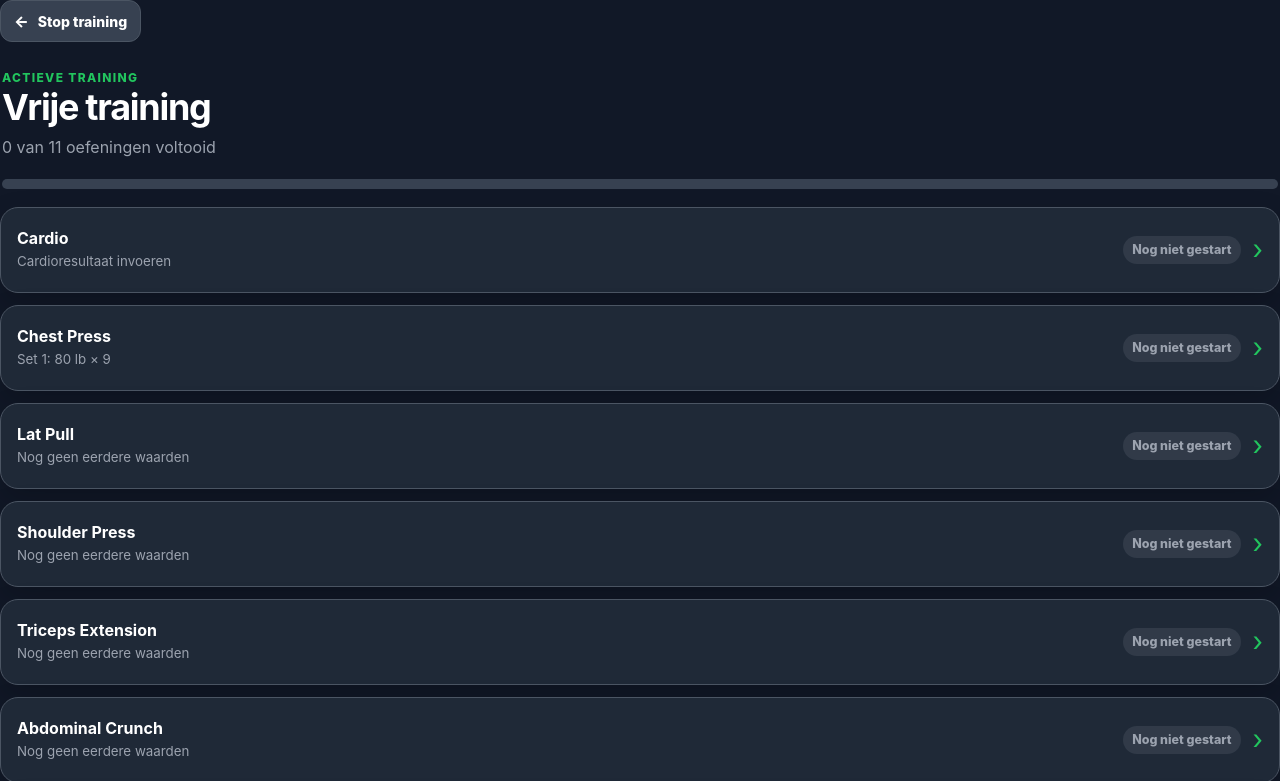
Test: actieve oefening tijdens autosave › overschrijft actieve invoer pas na expliciet herstellen uit oude A-historie
The width and height of the screenshot is (1280, 781).
Step 1. Click the button "Chest Press Set 1: 80 lb × 9 Nog niet gestart ›" → (64, 336), box [1, 306, 1279, 390]
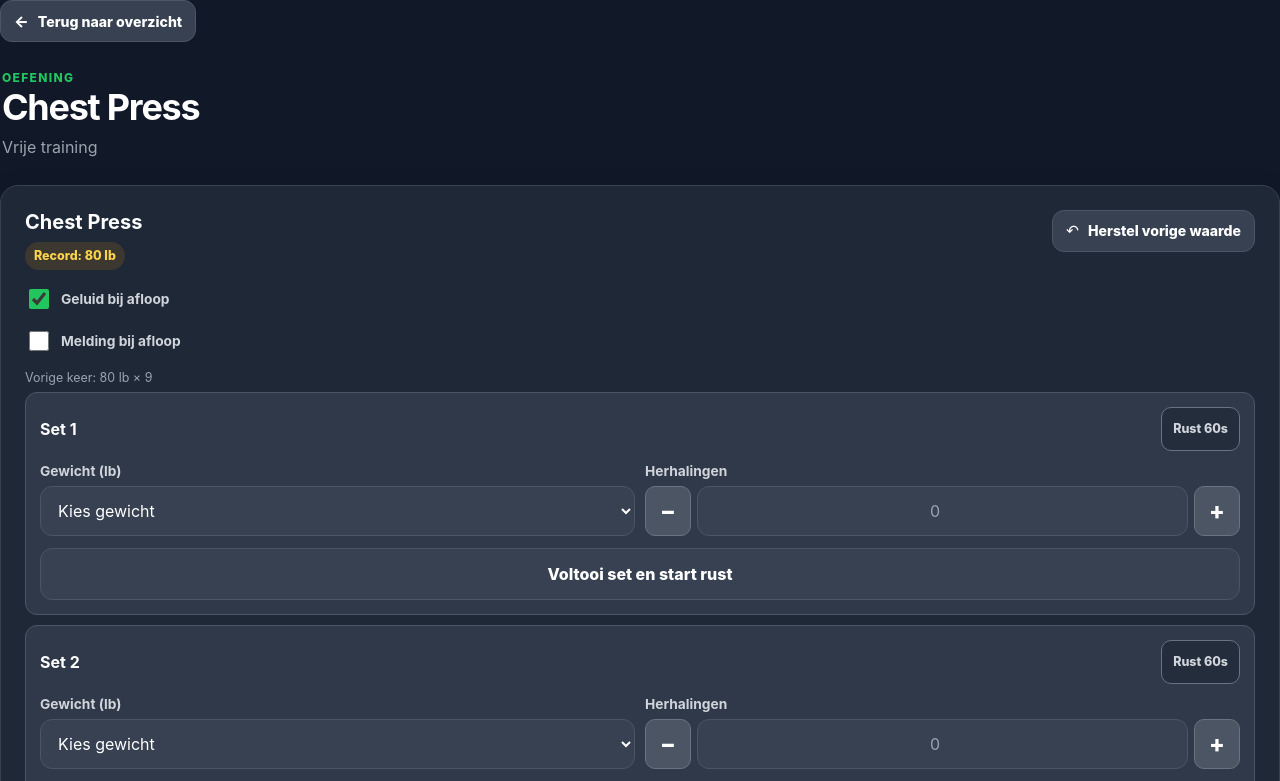
Now the dropdown labelled "Gewicht (lb)" below "Vorige keer:" shows "Kies gewicht"
Step 2. Select "100 lb" in the dropdown labelled "Gewicht (lb)" below "Vorige keer:" → (338, 511), box [40, 486, 635, 536]
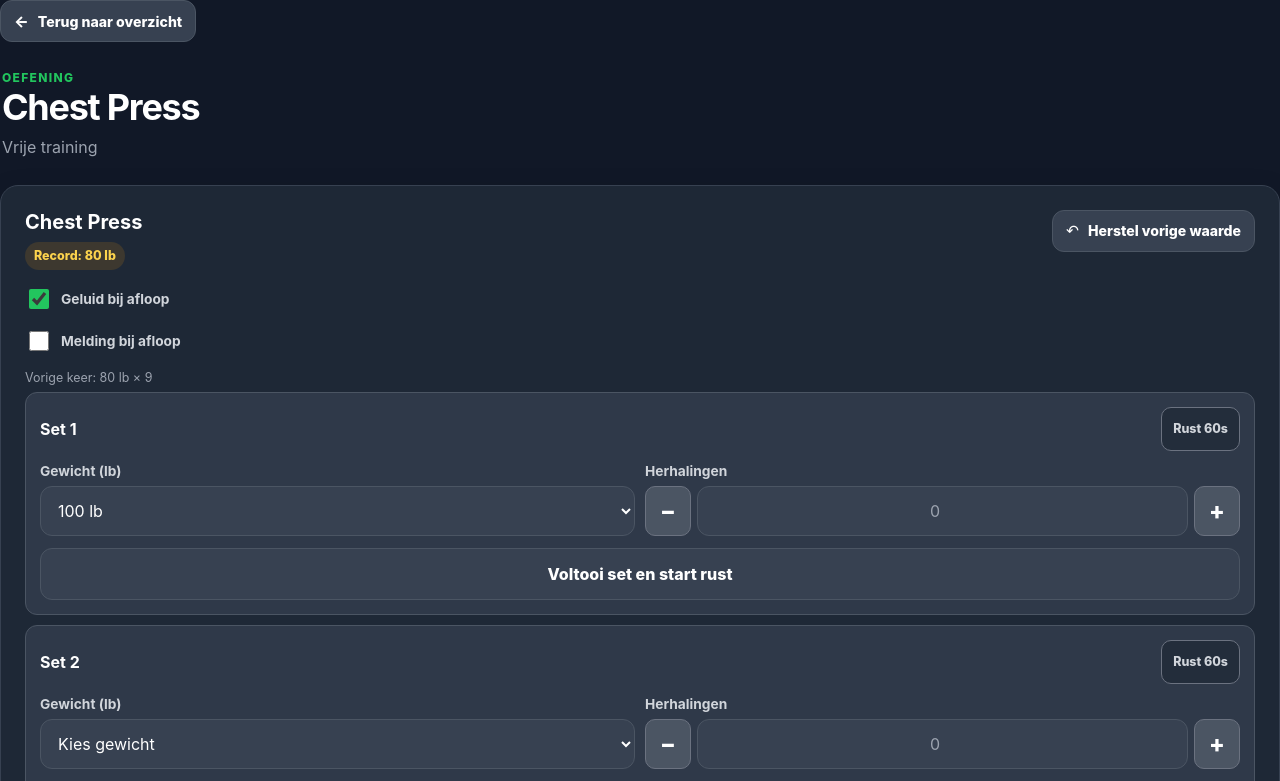
Step 3. Click the button "↶ Herstel vorige waarde" → (1154, 231), box [1052, 210, 1255, 252]
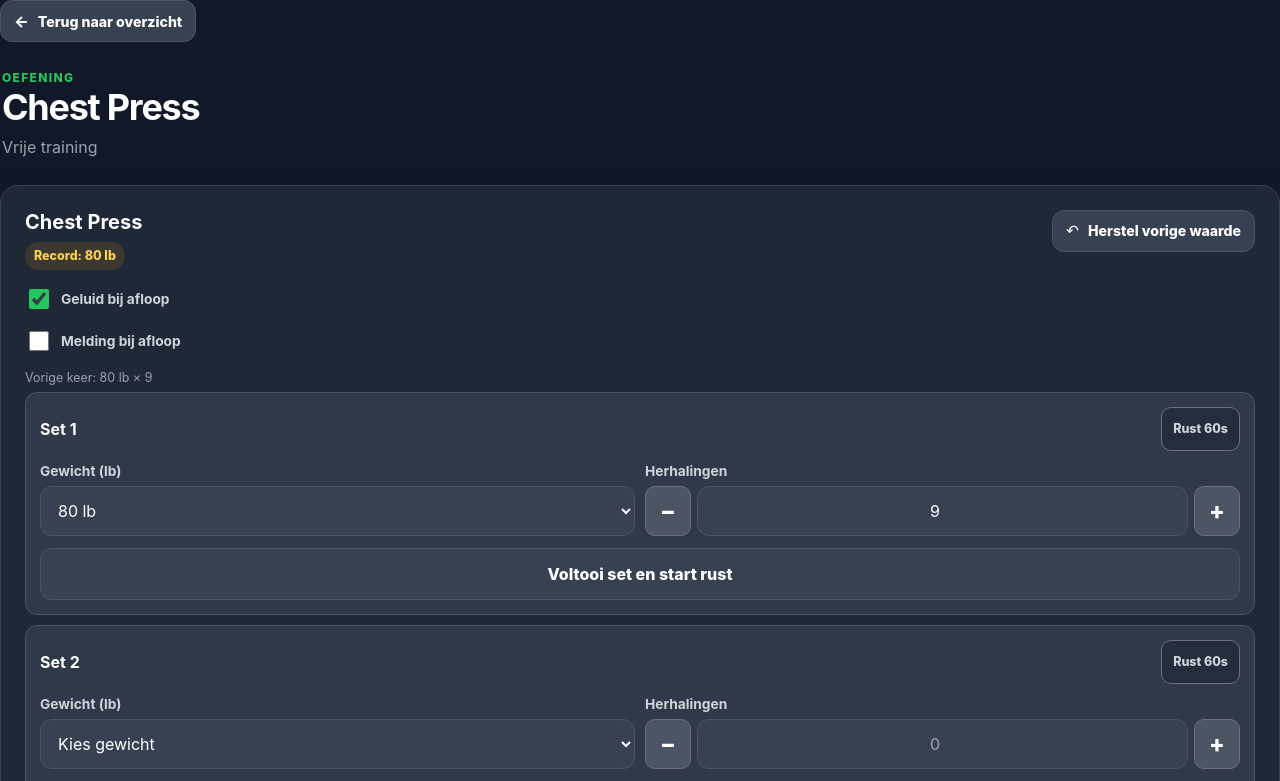
Now the text "Vrije training" is shown, box [2, 137, 98, 157]
Now the 1st number field labelled "Herhalingen" holds "9", box [697, 486, 1188, 536]
